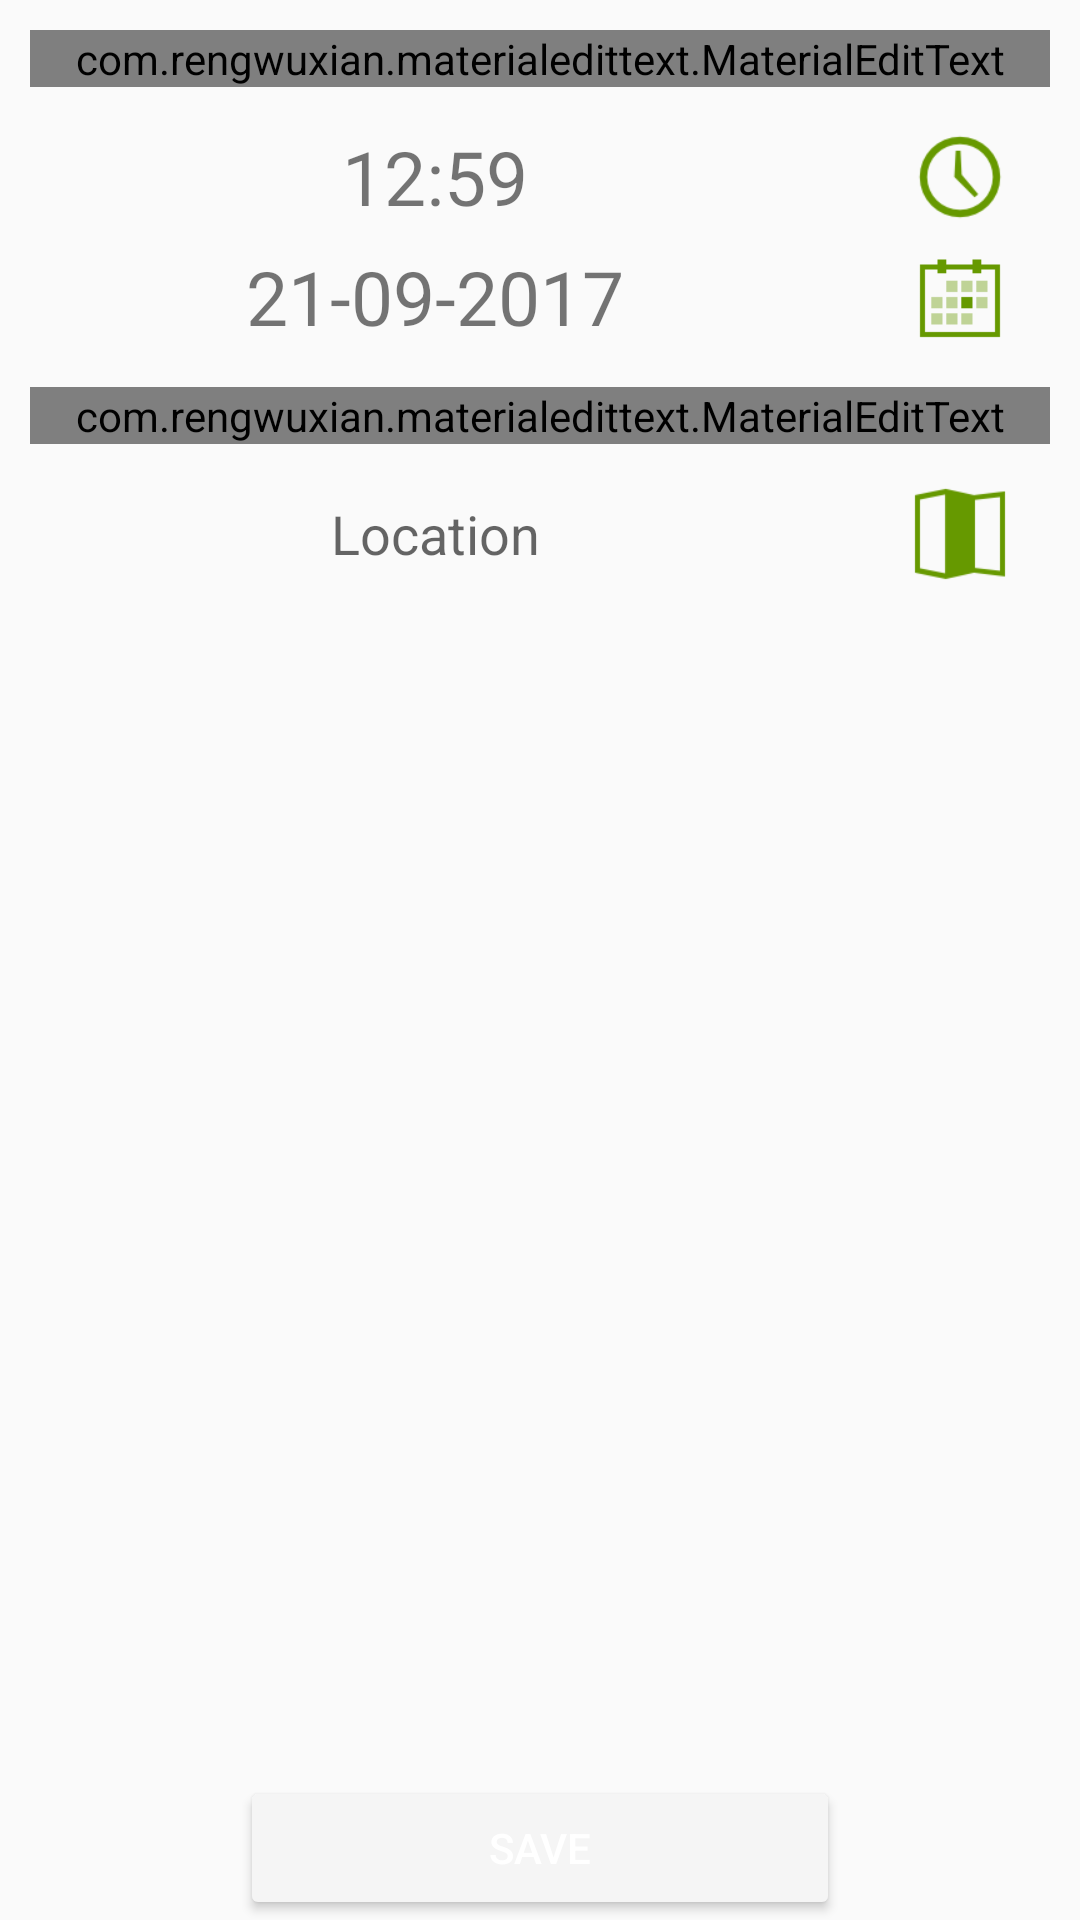

Point at icon controls on the screen. Image size 1080 x 1920, points as (x=x, y=y).
calendar day: (x=960, y=298)
clock: (x=960, y=177)
map: (x=960, y=533)
